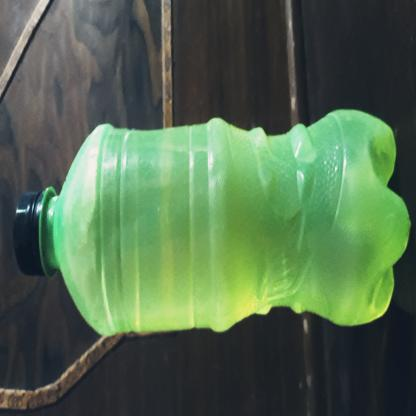bottle: (61, 1, 193, 399)
